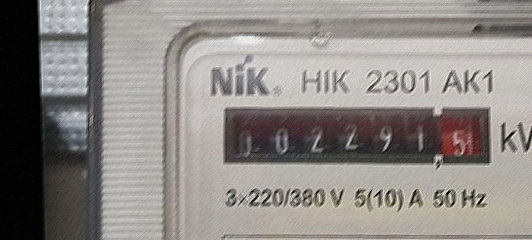0: (234, 126, 253, 156), (272, 125, 289, 155)
1: (411, 121, 426, 155)
2: (307, 124, 324, 154), (342, 121, 357, 151)
5: (449, 127, 466, 157)
9: (376, 123, 393, 153)
screen: (217, 95, 496, 178)
